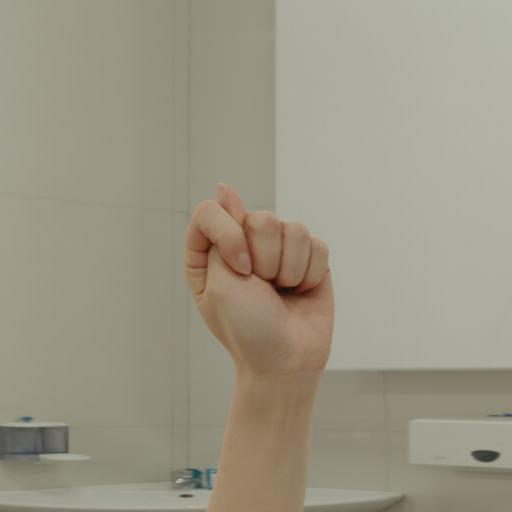T: (178, 176, 351, 402)
